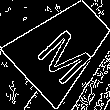M_NE: (28, 13, 96, 81)
